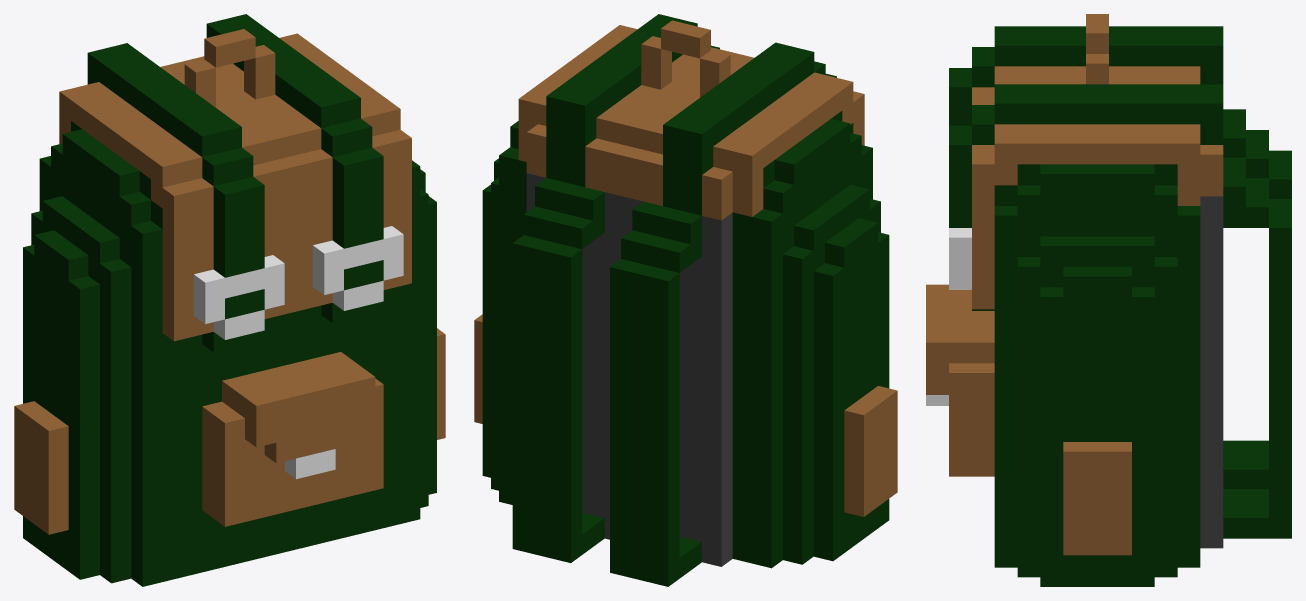
The model's file is greenbag.glb.
3 views of the same model, side by side, from view 1: azimuth 30°, elevation 25°; view 2: azimuth 150°, elevation 25°; view 3: azimuth 270°, elevation 25° (orthographic).
Visible parts, largest first — view 1: Untitled; view 2: Untitled; view 3: Untitled.
Boxes of the visible parts, bbox=[...] form: Untitled: bbox=[14, 14, 445, 586]; Untitled: bbox=[474, 14, 897, 586]; Untitled: bbox=[926, 14, 1291, 586].
Bounding box in the file's own units: 2 × 2.3 × 1.6.
1 material, 1 textured.
